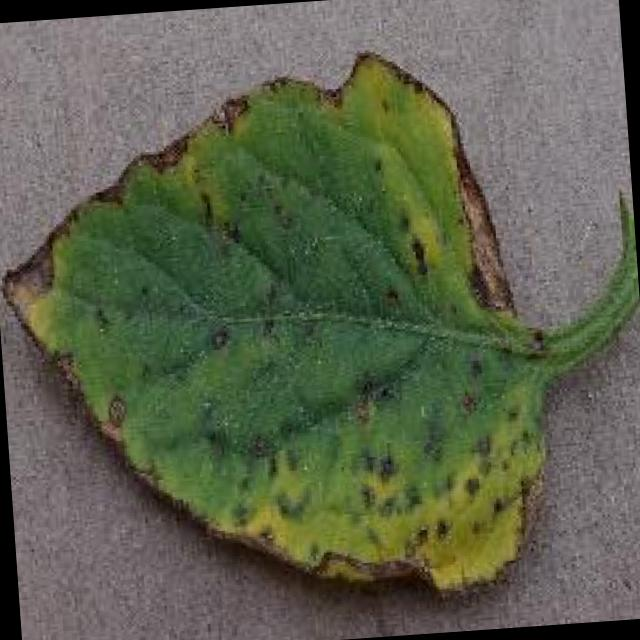bacterial spot: (0, 43, 640, 594)
